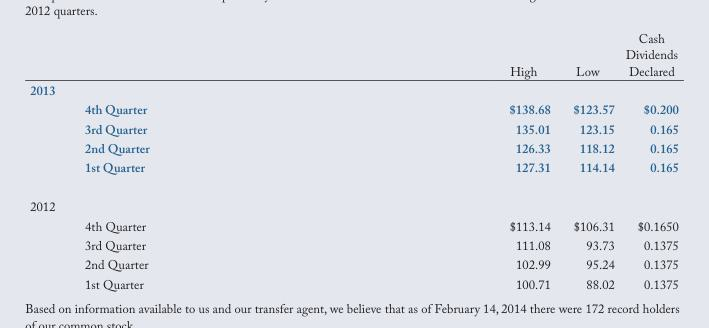table: (29, 29, 677, 296)
table column: (69, 29, 328, 296), (328, 29, 561, 296), (561, 29, 619, 296), (619, 29, 677, 296), (29, 29, 69, 296)
table column header: (29, 29, 677, 82)
table row: (29, 29, 677, 82), (29, 188, 677, 237), (29, 82, 677, 121), (29, 159, 677, 188), (29, 256, 677, 276), (29, 276, 677, 296), (29, 121, 677, 140), (29, 140, 677, 159), (29, 237, 677, 256)
table spanning cell: (29, 188, 69, 296), (29, 82, 69, 188)
